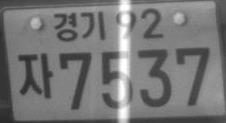2: (140, 7, 163, 39)
3: (137, 48, 172, 107)
5: (100, 49, 134, 109)
7: (175, 46, 210, 105), (58, 51, 91, 110)
9: (115, 9, 137, 39)
경기_H: (52, 11, 105, 41)
자: (17, 52, 54, 99)
